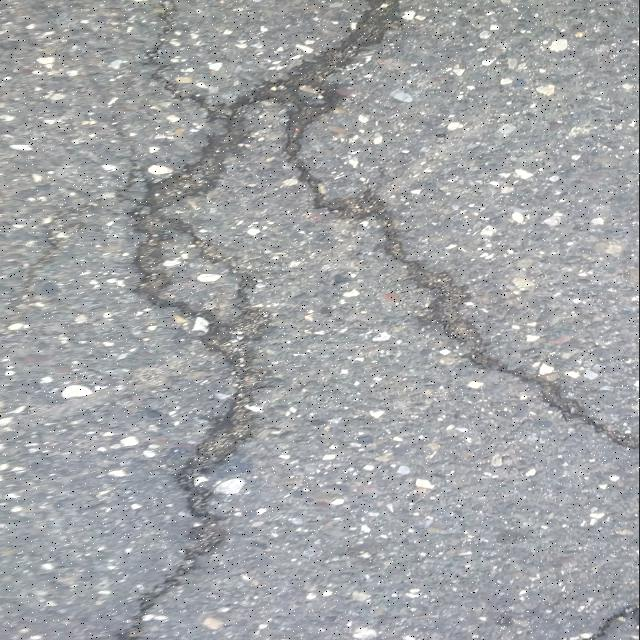Crack: (120, 0, 640, 640)
